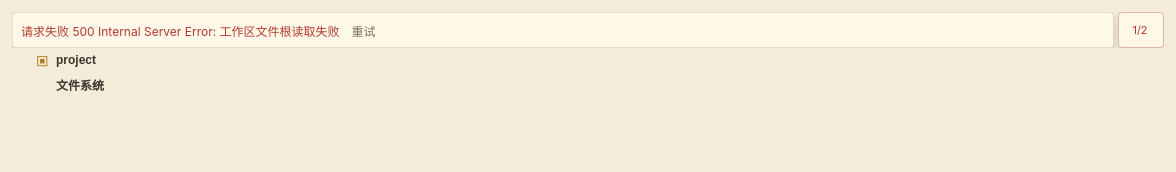
it: 工作区文件树快捷路径设置读取失败 › 并发错误能逐条切换且根目录重试不会清除快捷路径错误
The width and height of the screenshot is (1176, 172).
What coordinates should you click on to do the following:
click the button "1/2"
I would click on:
 (1141, 30)
Its box is top-left (1118, 12), bottom-right (1164, 48).
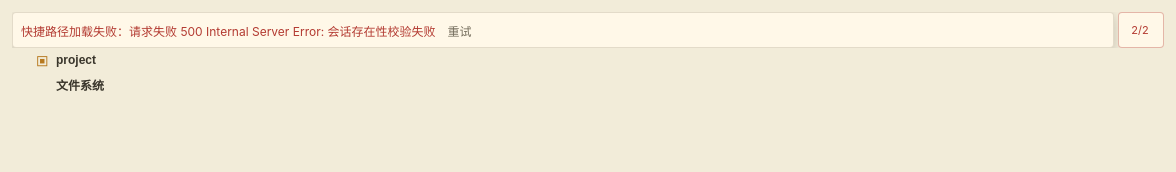
Result: the message "快捷路径加载失败：请求失败 500 Internal Server Error: 会话存在性校验失败 重试" has class "files-tree-error files-tree-settings-error" at top-left (12, 12), bottom-right (1114, 48)
What coordinates should you click on to do the following:
click the button "2/2"
I would click on:
 (1141, 30)
Its box is top-left (1118, 12), bottom-right (1164, 48).
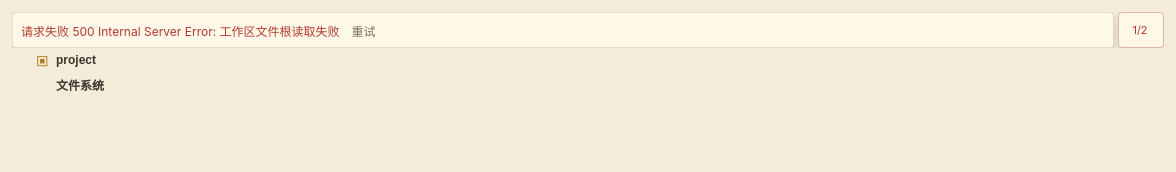
Result: the text "请求失败 500 Internal Server Error: 工作区文件根读取失败" is shown at top-left (21, 22), bottom-right (340, 38)
What coordinates should you click on to do the following:
click the button "重试"
I would click on:
 (364, 30)
Its box is top-left (346, 19), bottom-right (382, 41).
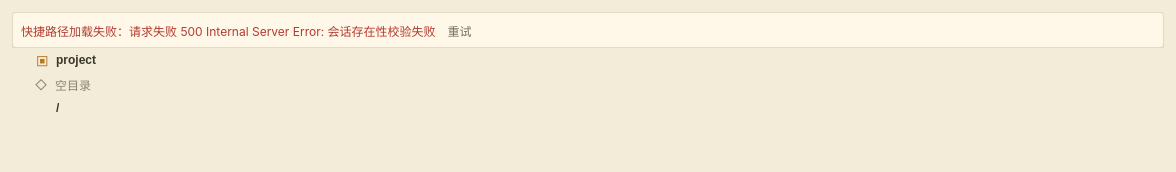
Result: no buttons are shown
